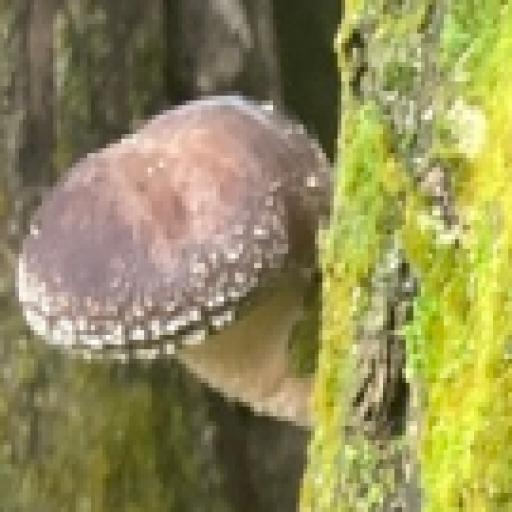Shiitake Mushroom: (15, 89, 335, 420)
